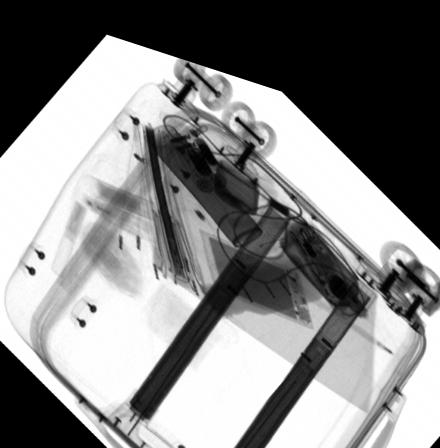Powerbank: (199, 215, 312, 308)
